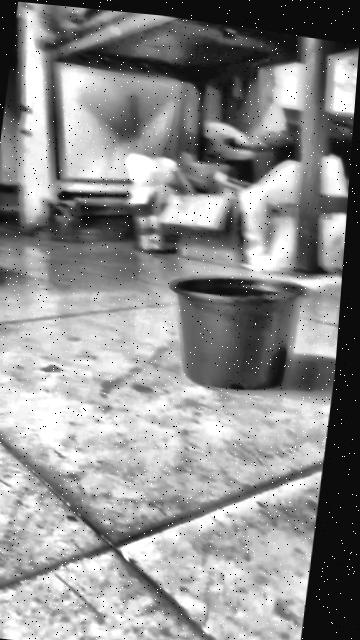pot: (157, 264, 305, 398)
